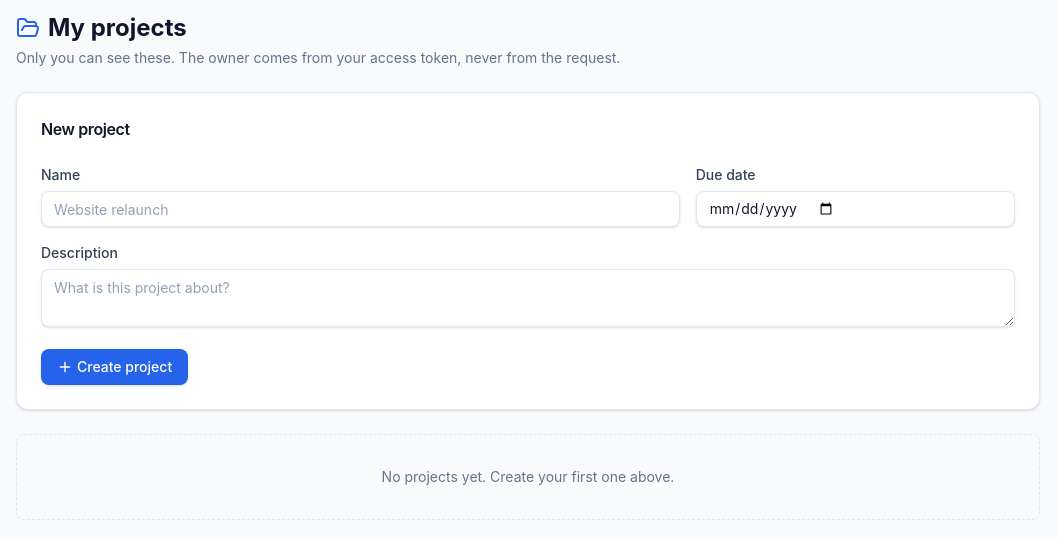
Projects page › shows the API's validation messages
Type "Duplicate" into the field labelled "Name".
click(360, 209); type("Duplicate")  # box [41, 191, 680, 227]
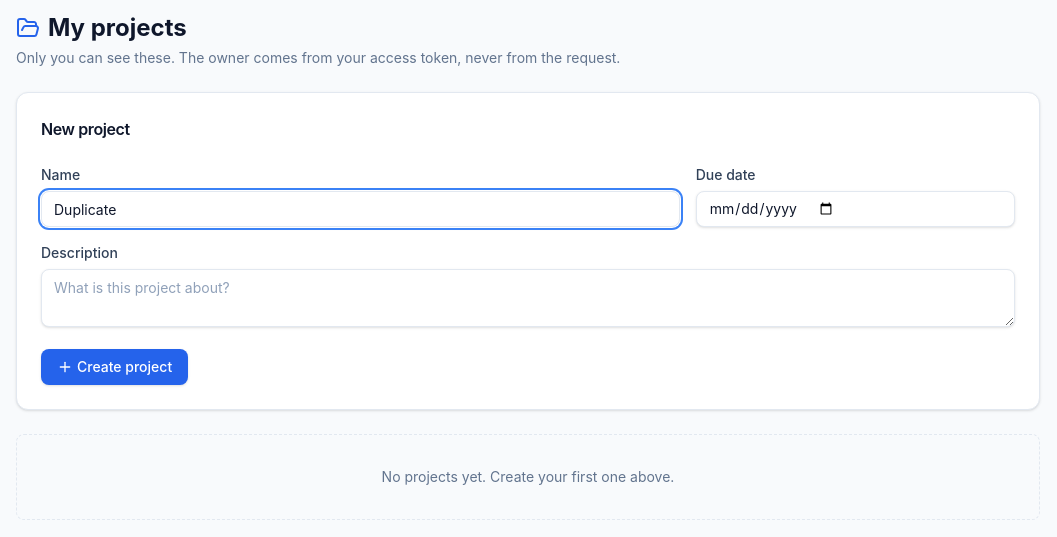
Click the button "Create project".
click(115, 367)  # box [41, 349, 188, 385]
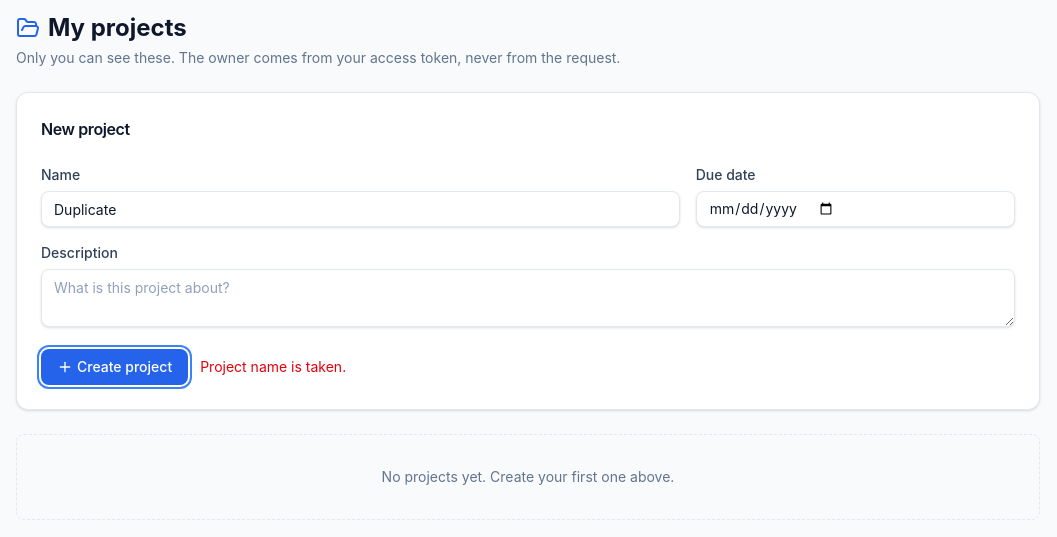
Check: the text "Project name is taken." is shown, box [200, 357, 346, 377]
